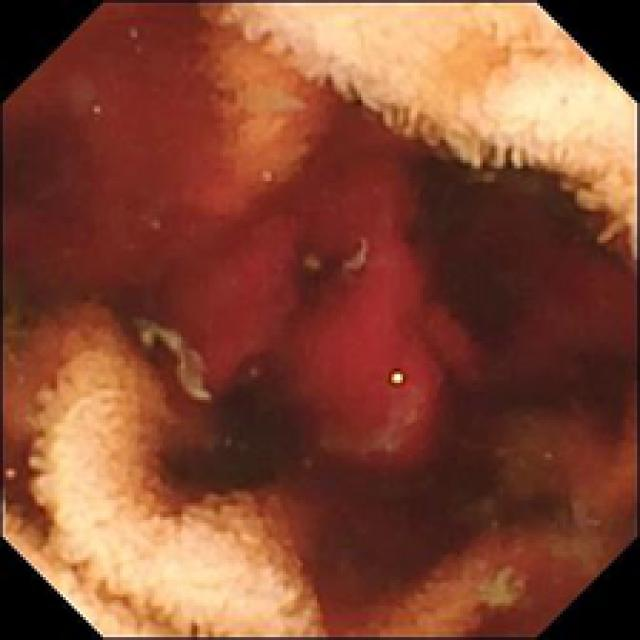bleeding: (324, 116, 640, 640), (6, 0, 318, 446)
